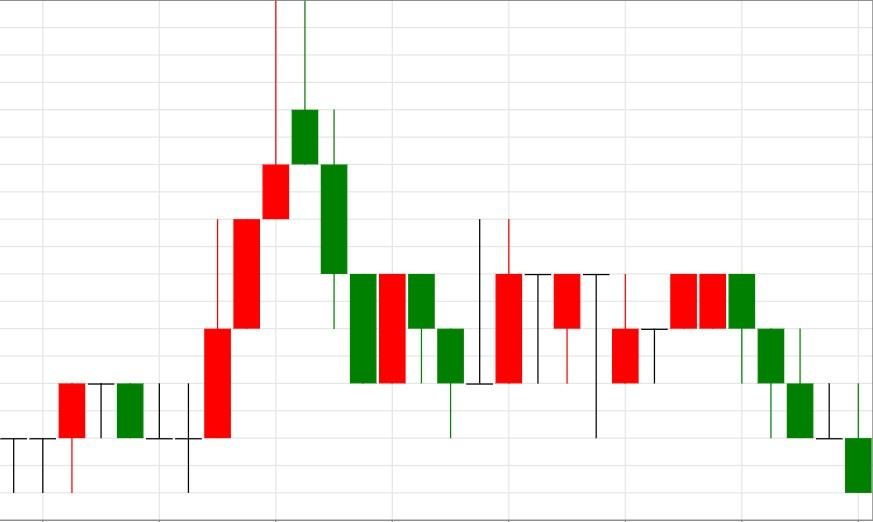shooting_star_fall: (174, 0, 319, 493)
three_black_crows_fall: (174, 0, 378, 493), (612, 273, 814, 439)
